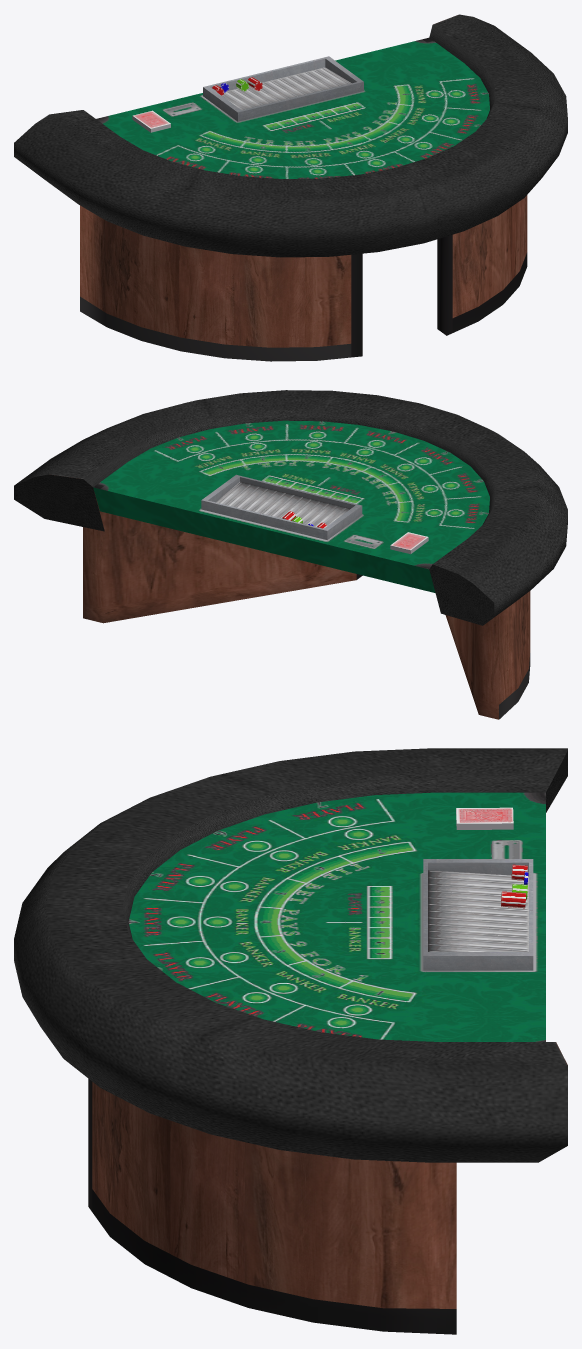
The model's file is BlackJackTable.fbx.
3 renders of one model, top to bottom at view 1: azimuth 30°, elevation 25°; view 2: azimuth 150°, elevation 25°; view 3: azimuth 270°, elevation 25°, orthographic. The views are drawn at different scales.
Parts seen in each view (by area): view 1: Cube, Cylinder_003; view 2: Cube, Cylinder_003; view 3: Cube, Cylinder_003.
Boxes of the visible parts, x1=… form: Cube: x1=14, y1=14, x2=567, y2=361; Cylinder_003: x1=132, y1=77, x2=262, y2=132; Cube: x1=14, y1=390, x2=567, y2=719; Cylinder_003: x1=281, y1=511, x2=428, y2=554; Cube: x1=14, y1=748, x2=567, y2=1334; Cylinder_003: x1=456, y1=807, x2=528, y2=908.
Bounding box in the file's own units: 12.22 × 4.17 × 7.74.
